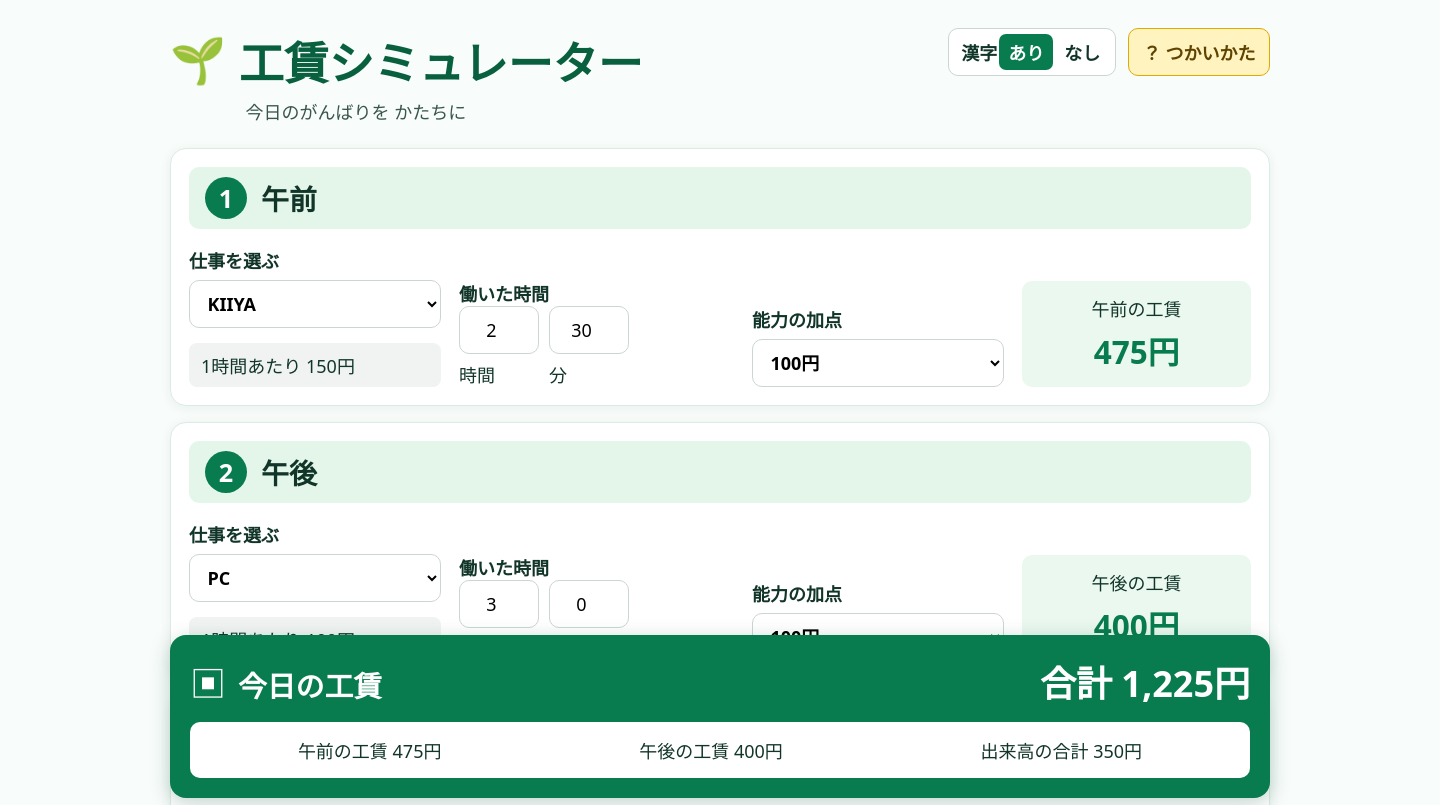
Test: 工賃シミュレーター › 午前・午後・出来高の入力から合計を表示する
This screenshot has width=1440, height=805.
Expected: the heading "今日の工賃" is shown, [238,666,382,705]
Expected: the heading "午前" is shown, [261,178,317,218]
Select "PC" in the dropdown named "午前のしごと" at {"x": 315, "y": 304}, box [189,280,441,328]
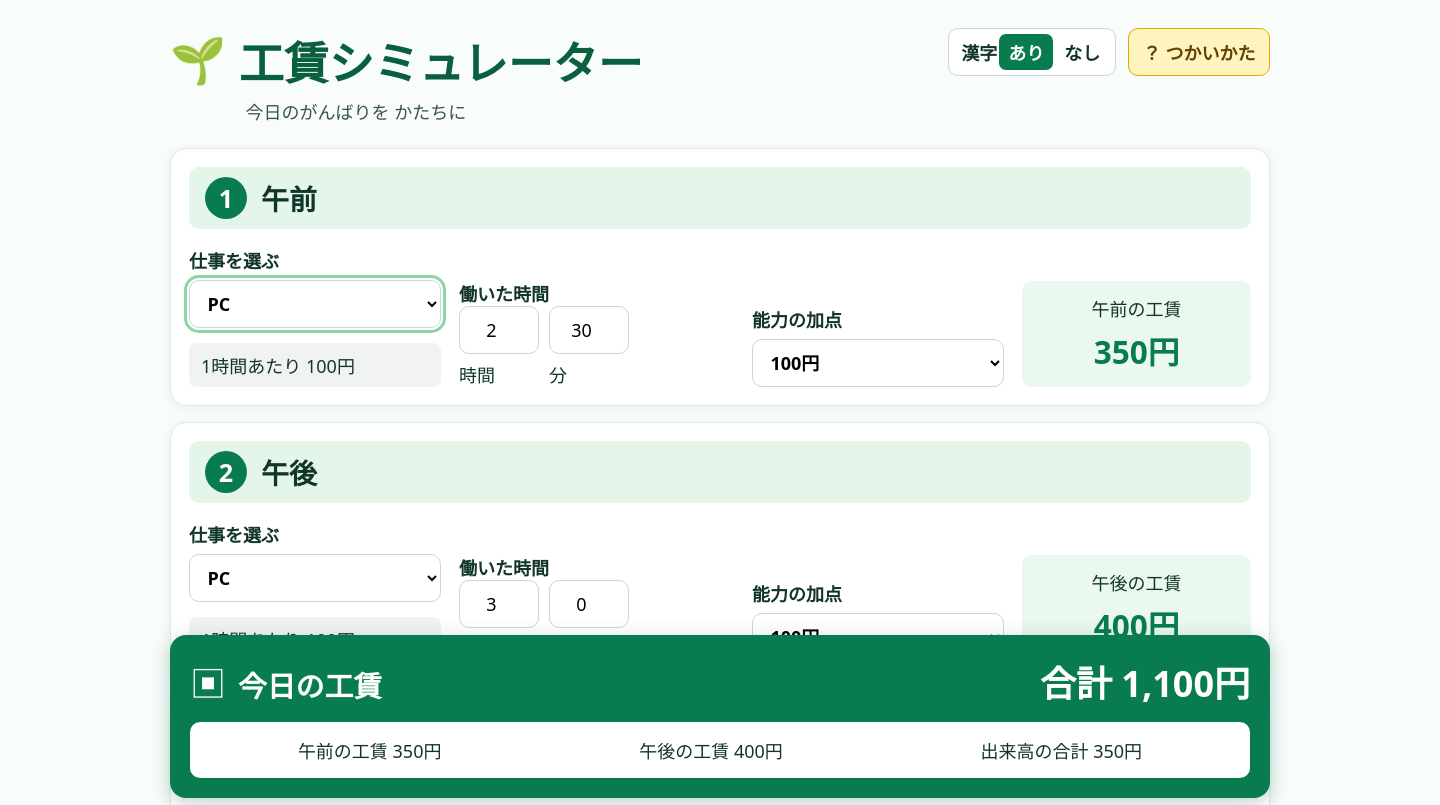
Now the message named "今日の工賃合計" shows "1,100円", box [170,635,1270,798]
